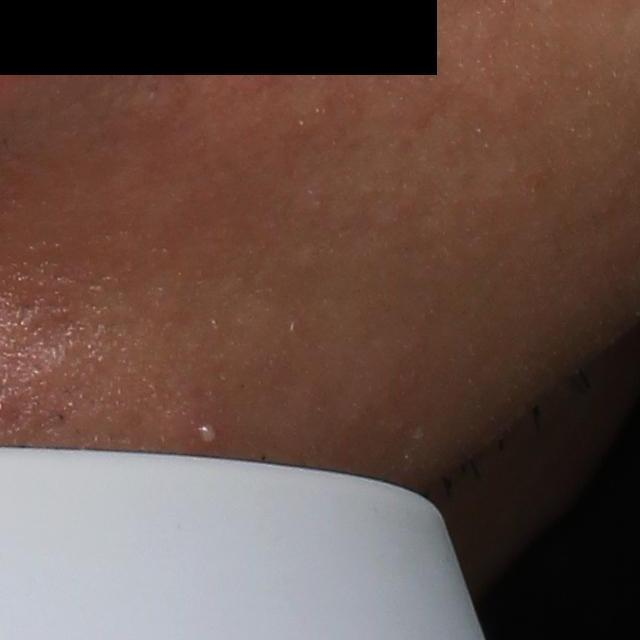pustule: (194, 422, 221, 444)
